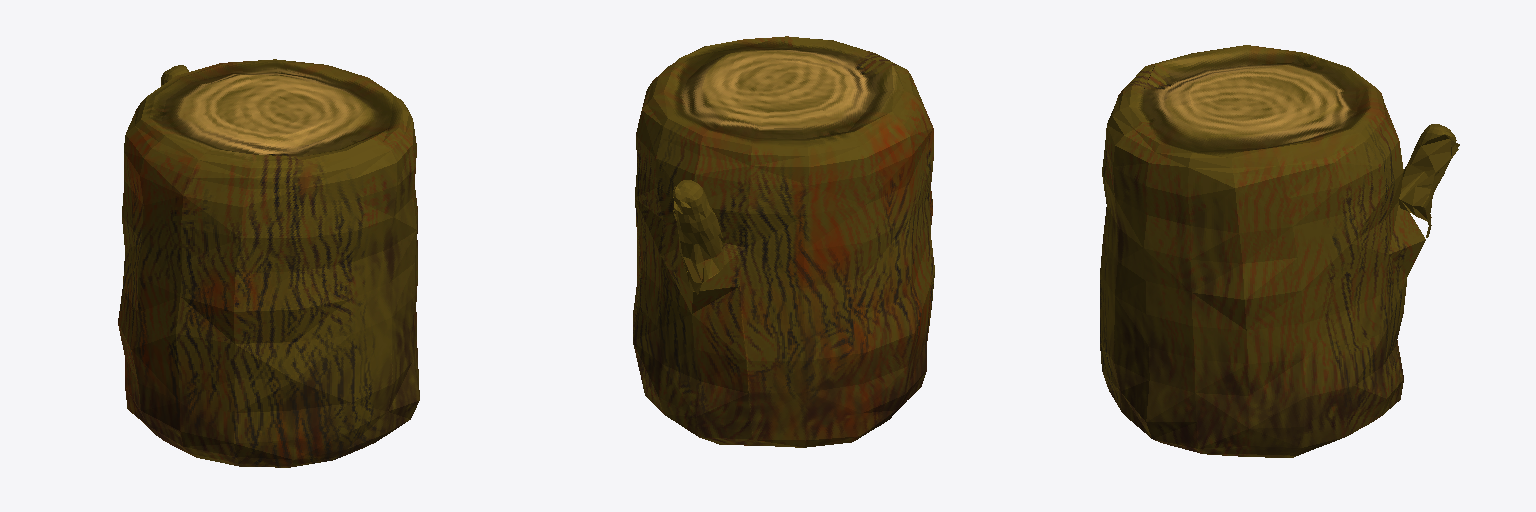
The picture shows the model from 3 angles: view 1: azimuth 30°, elevation 25°; view 2: azimuth 150°, elevation 25°; view 3: azimuth 270°, elevation 25°; orthographic projection.
Parts seen in each view (by area): view 1: ZBrush_defualt_group; view 2: ZBrush_defualt_group, Group1; view 3: ZBrush_defualt_group, Group1.
Boxes of the visible parts, <box> form: ZBrush_defualt_group: <box>118,59,419,467</box>; ZBrush_defualt_group: <box>633,36,934,447</box>; Group1: <box>673,180,724,294</box>; ZBrush_defualt_group: <box>1100,45,1425,457</box>; Group1: <box>1399,124,1459,237</box>.
Size of the model in its own units: 9.27 by 10.55 by 10.66.
1 materials, 1 textured.